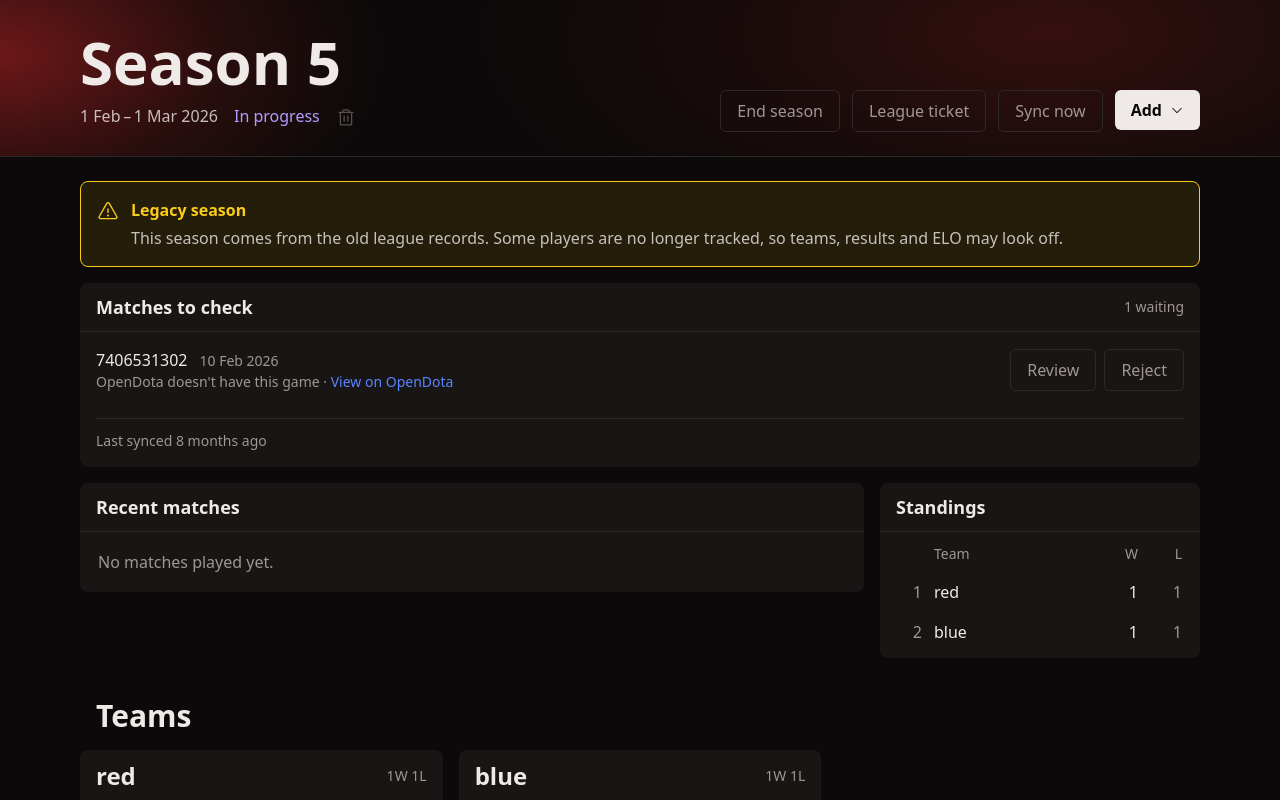
Scenario: leaves the winner to the admin when the sync doesn't know it
The image size is (1280, 800).
Click the button "Review": (1053, 370) [1010, 349, 1096, 391]
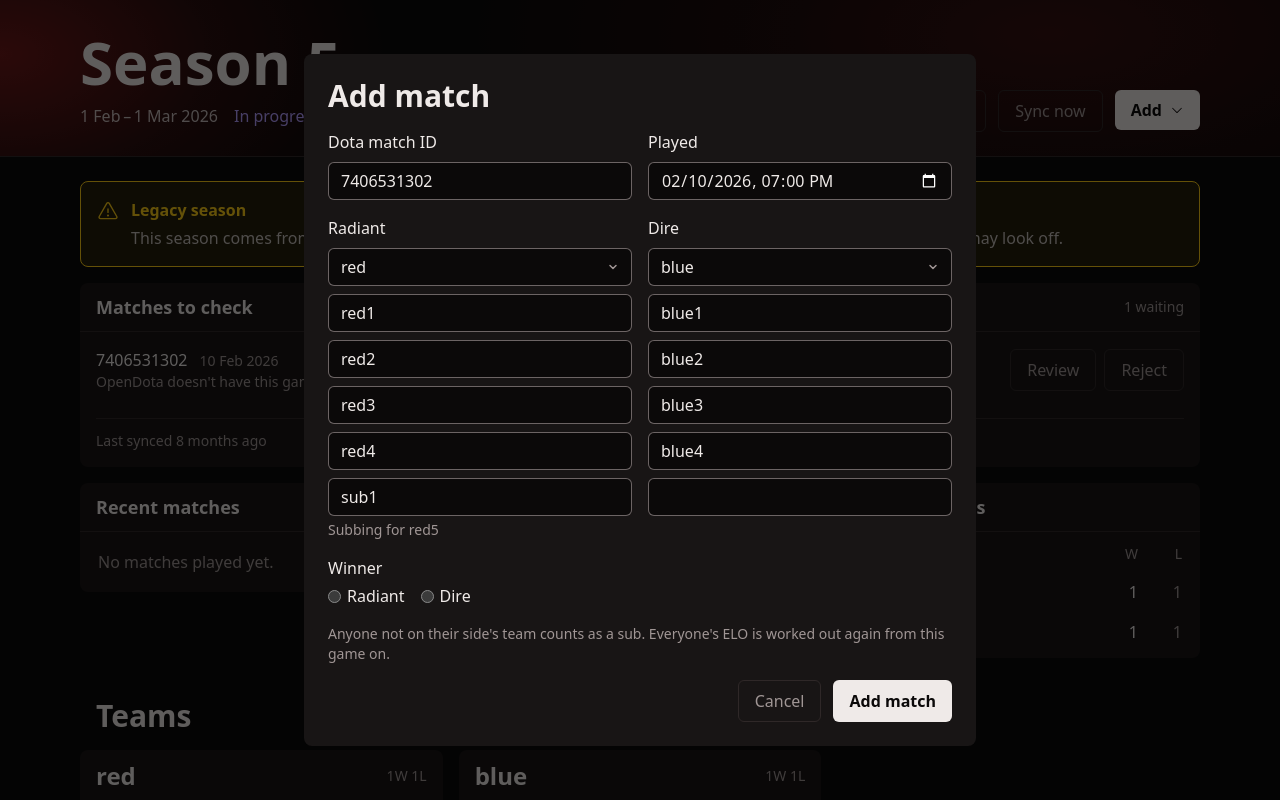
Expected: the radio button labelled "Radiant" is not checked, [328, 590, 341, 602]
Expected: the radio button labelled "Dire" is not checked, [420, 590, 434, 602]
